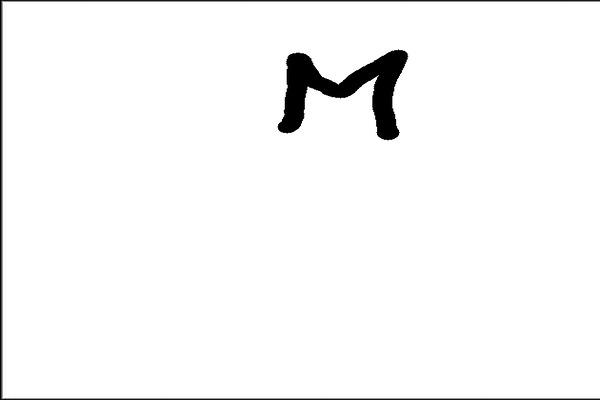M: (275, 47, 413, 144)
